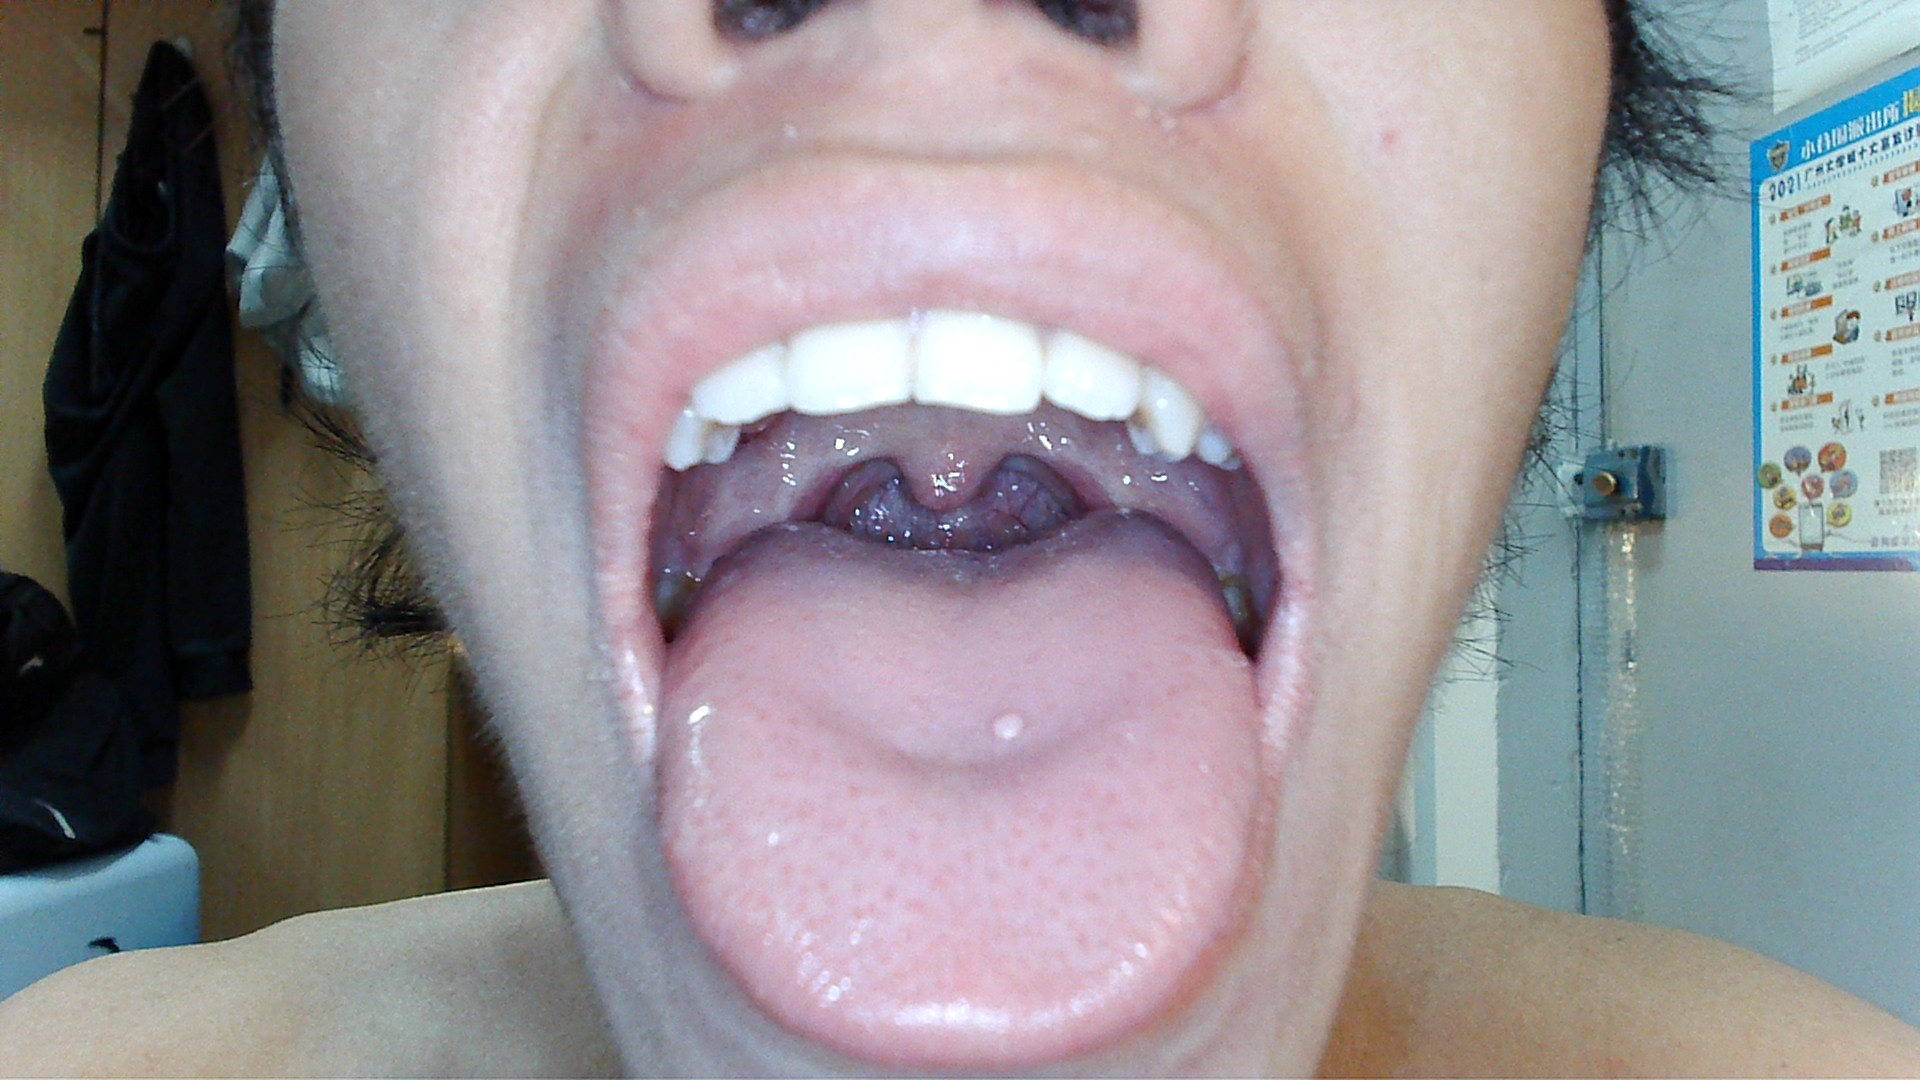throat: (1038, 433, 1118, 520), (770, 448, 858, 516)
